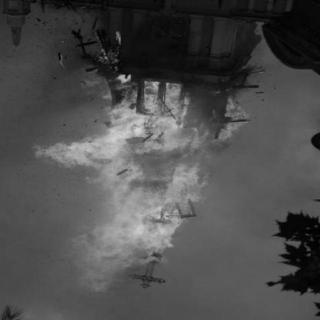Fire: (52, 39, 252, 297)
